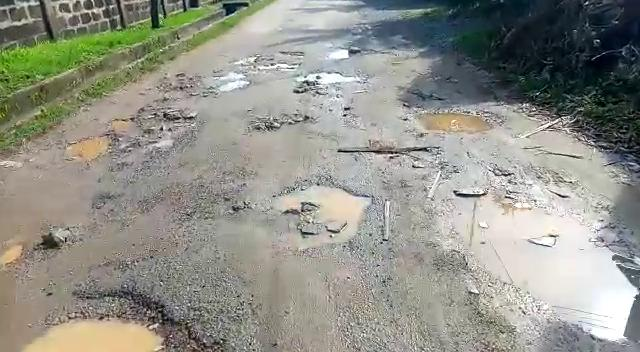pothole: (26, 287, 228, 352), (273, 179, 378, 247), (111, 101, 196, 149), (413, 104, 505, 135), (337, 143, 449, 168), (169, 189, 241, 221), (63, 132, 113, 164), (292, 71, 366, 92), (251, 112, 316, 130), (209, 76, 252, 93)
